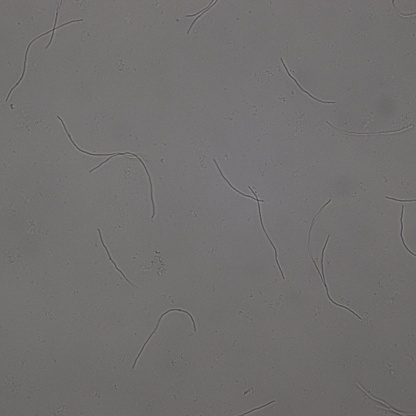Sensitive: (57, 116, 156, 219), (5, 7, 84, 102), (307, 199, 362, 319), (132, 306, 197, 367), (249, 187, 285, 279), (282, 59, 335, 106), (214, 160, 264, 203), (98, 229, 133, 285), (356, 383, 416, 415), (326, 120, 414, 140), (186, 1, 218, 35), (398, 204, 416, 257)
